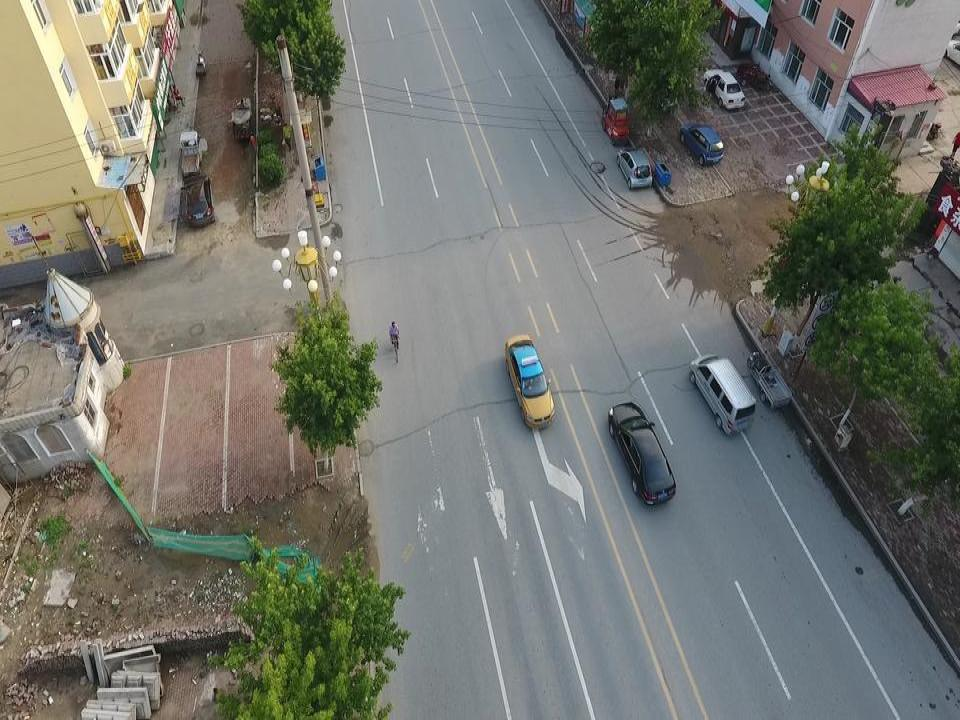car: (605, 397, 678, 511), (503, 332, 556, 432), (678, 122, 724, 166), (179, 173, 216, 227), (703, 66, 746, 110), (616, 148, 653, 189)
truck: (178, 130, 201, 174)
van: (687, 351, 758, 436)
